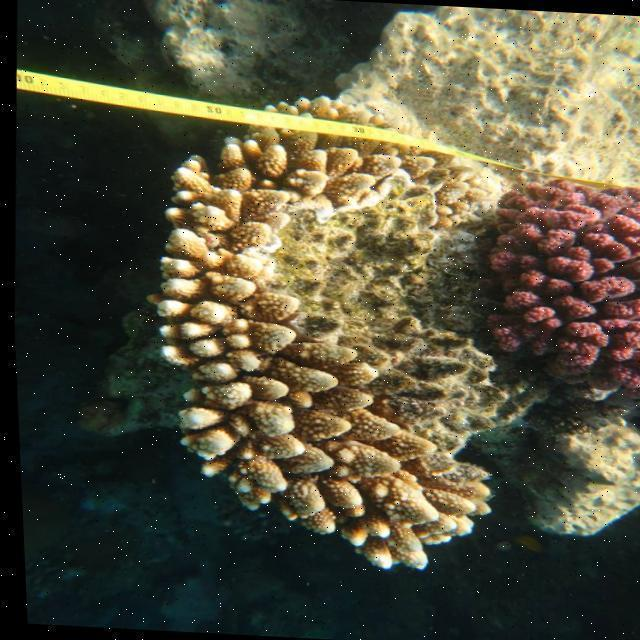Healthy Coral: (148, 316, 451, 588), (463, 171, 640, 405), (155, 125, 462, 216), (133, 203, 280, 316)
